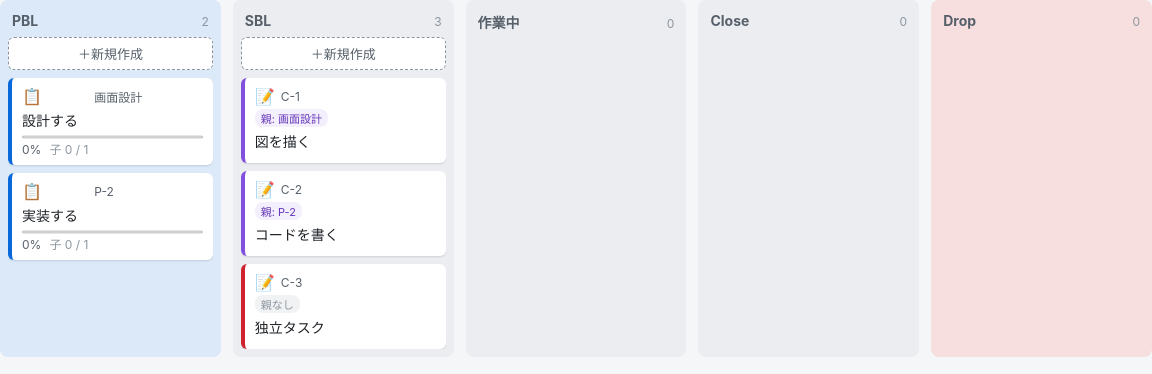
BoardView › 親アイテムによる絞り込み › 親カードの右クリックメニューから絞り込むと、その親と子だけが表示される
Right-click the text "設計する" at (50, 120), box [22,112,78,129]
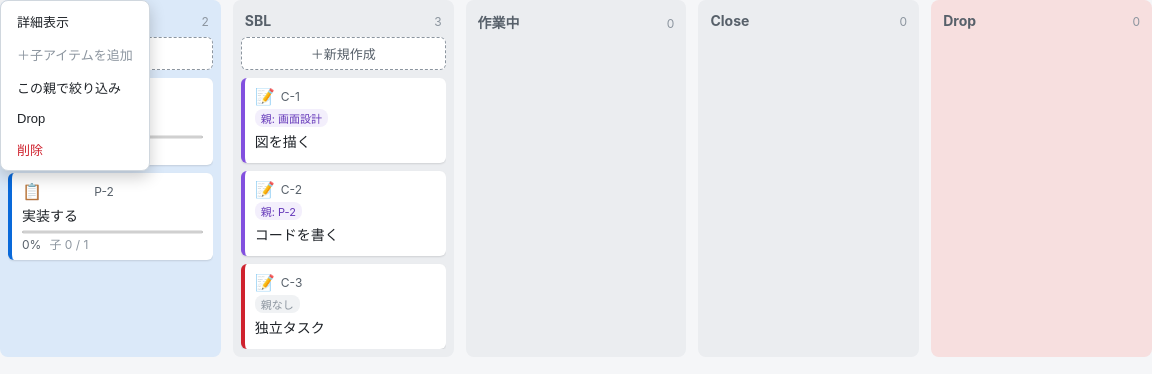
Click the menu item "この親で絞り込み" at (75, 88), box [5,71,145,104]
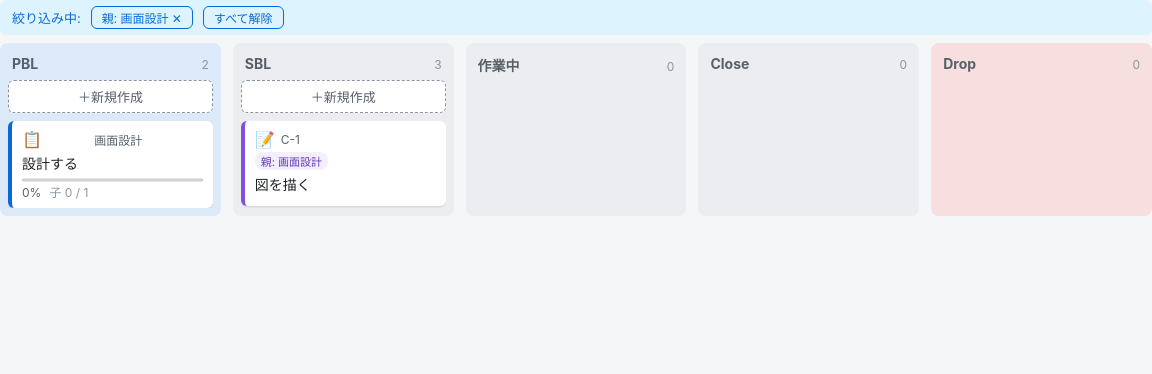
Result: the button "実装する" is gone
Result: the button "コードを書く" is gone
Result: the button "独立タスク" is gone
